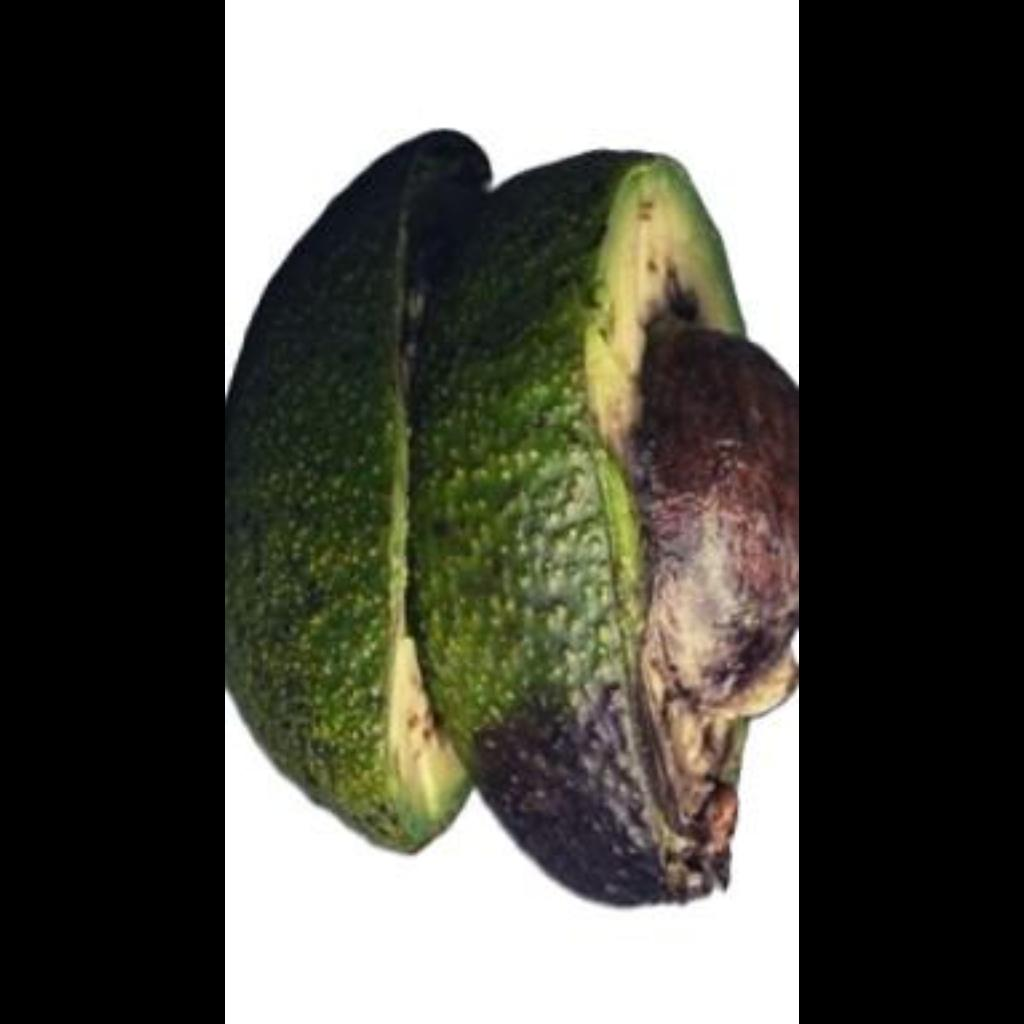Anthracnose: (415, 512, 781, 914)
